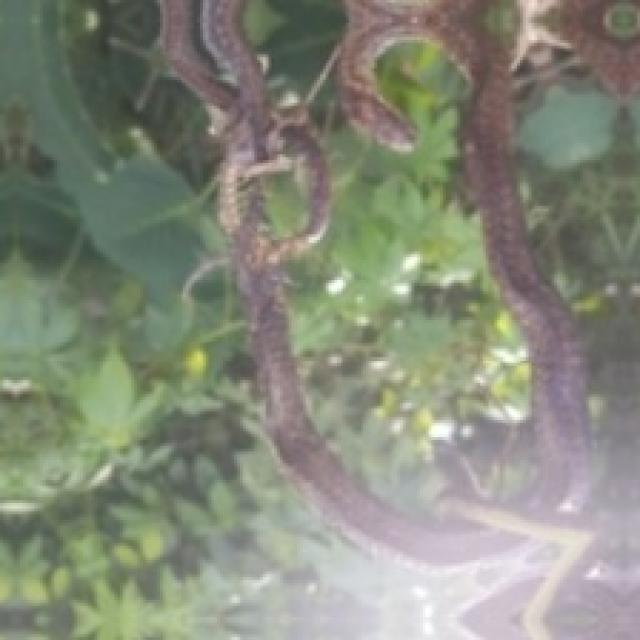reinhardts lined snake: (160, 0, 494, 566), (326, 0, 589, 514)
